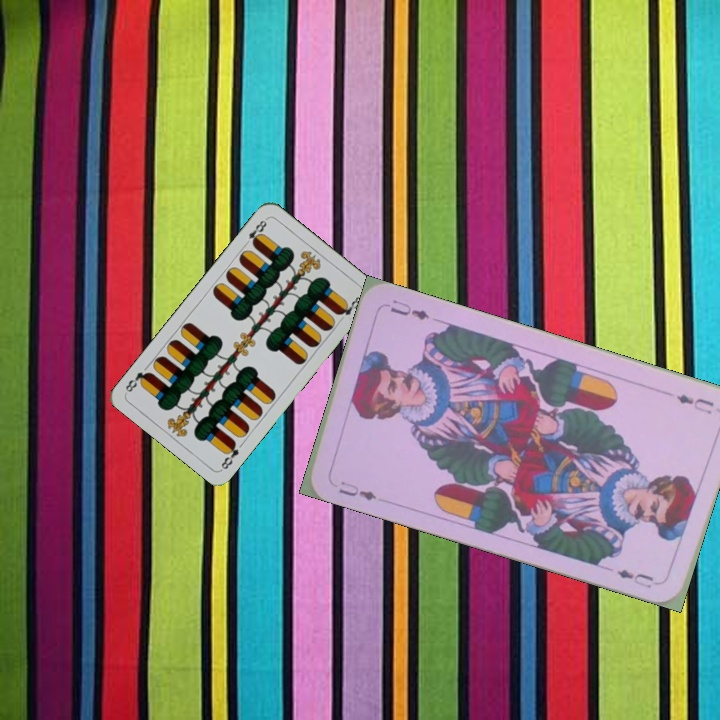E8: (240, 215, 270, 249), (217, 437, 241, 472)
EU: (672, 390, 717, 417), (334, 477, 379, 503)
